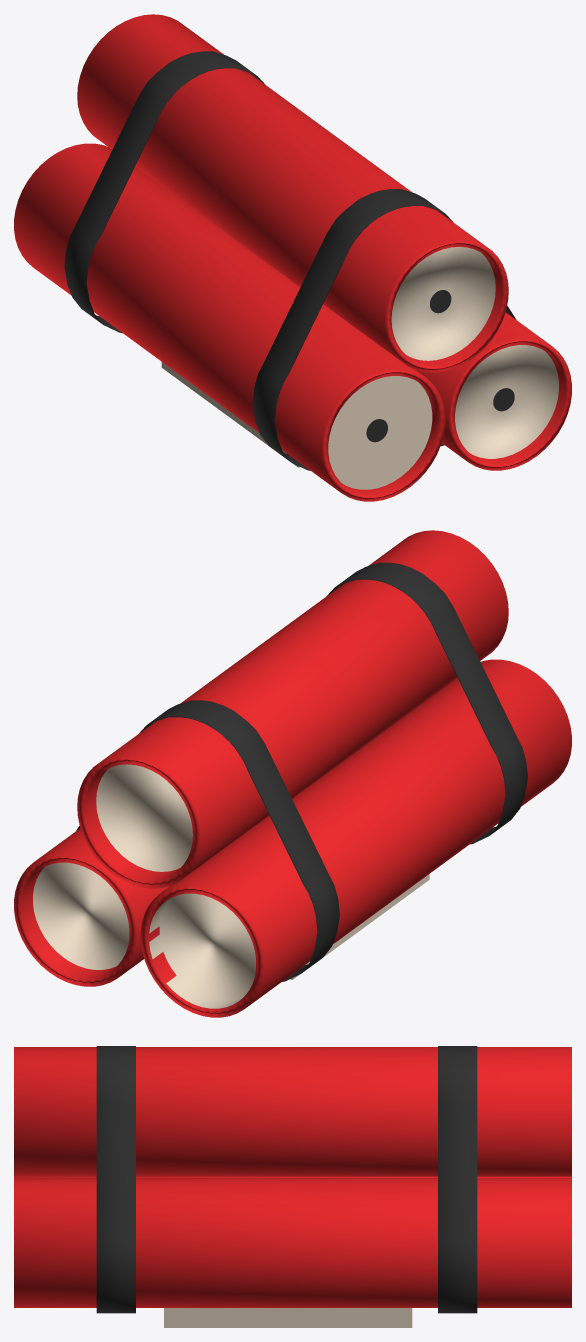
File: dynamite.fbx
3 views of the same model, one above another, from view 1: azimuth 30°, elevation 25°; view 2: azimuth 150°, elevation 25°; view 3: azimuth 270°, elevation 25° (orthographic). The views are drawn at different scales.
Parts seen in each view (by area): view 1: dynatmite.001, dynatmite; view 2: dynatmite.001, dynatmite; view 3: dynatmite.001, dynatmite.
Boxes of the visible parts, x1,y1,x2,y2 form: dynatmite.001: (14, 14, 571, 501); dynatmite: (64, 51, 516, 470); dynatmite.001: (14, 530, 571, 1017); dynatmite: (76, 562, 527, 981); dynatmite.001: (14, 1047, 571, 1307); dynatmite: (96, 1046, 477, 1327).
Bounding box in the file's own units: 1.34 × 1.36 × 2.78.
